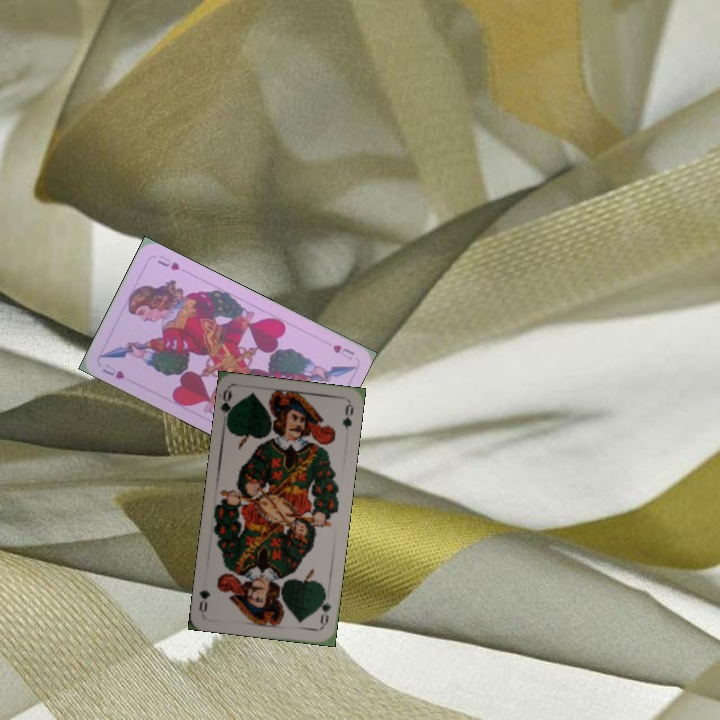GO: (217, 386, 238, 428), (315, 588, 334, 629)
HU: (98, 360, 128, 382), (329, 340, 357, 362)
